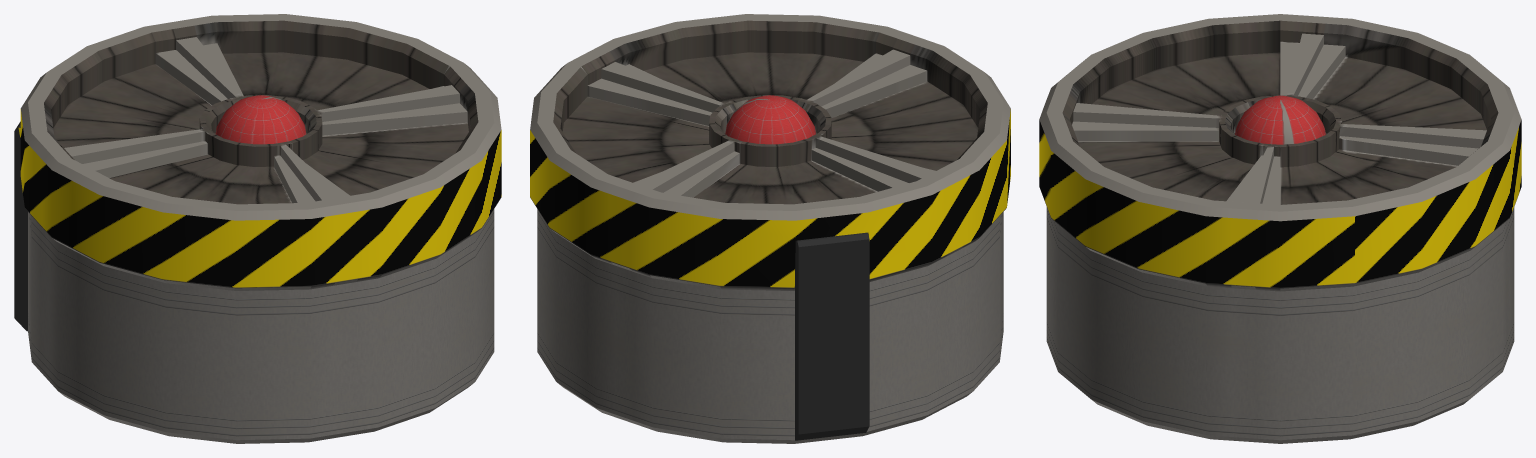
The model's file is sasModule.DAE.
3 renders of one model, left to right at view 1: azimuth 30°, elevation 25°; view 2: azimuth 150°, elevation 25°; view 3: azimuth 270°, elevation 25°, orthographic.
Parts seen in each view (by area): view 1: SAS_Switch; view 2: SAS_Switch; view 3: SAS_Switch.
Boxes of the visible parts, x1,y1,x2,y2 form: SAS_Switch: [14, 14, 501, 443]; SAS_Switch: [530, 14, 1010, 443]; SAS_Switch: [1039, 14, 1521, 443].
Size of what is drawn, in the model's own units: 0.9986 by 0.5681 by 0.9986.
